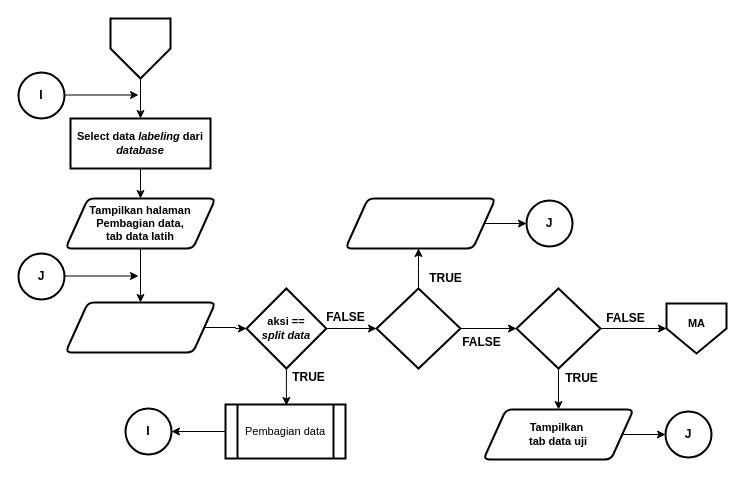
Image size: 744x477. Some labels were removed from this diagram. The centre of each missing label's shape, as x and y in pixels:
aksi == Data Latih: pixel 418 328
aksi == Data Uji: pixel 558 328
Input aksi: pixel 140 327
PD: pixel 140 48
Tampilkan tab data latih: pixel 420 223
